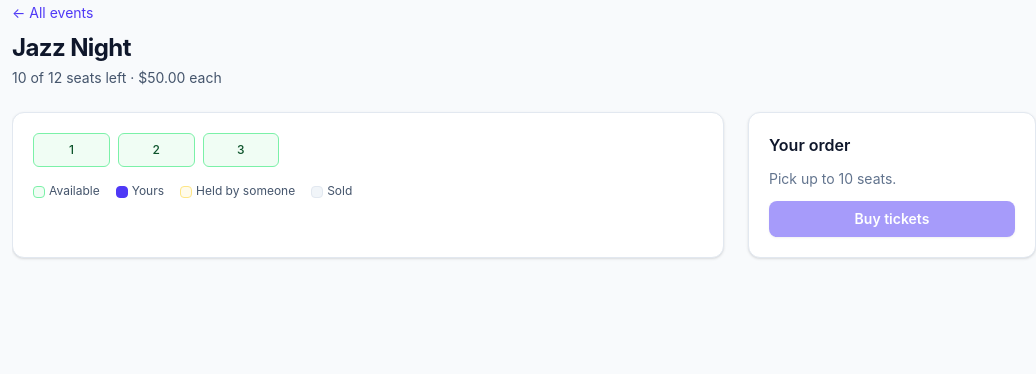
EventPage › tells the buyer a declined card cost them nothing
What coordinates should you click on to do the following:
click the button named "Seat 1, available"
I would click on:
 (71, 150)
Its box is [33, 133, 110, 167].
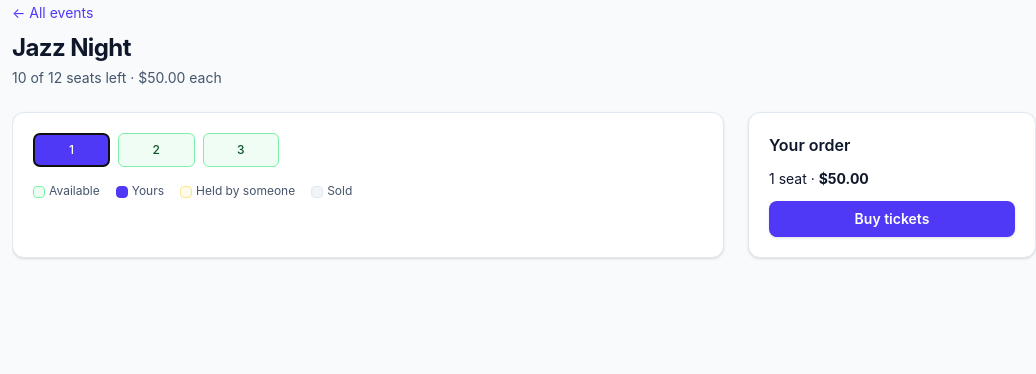
What coordinates should you click on to do the following:
click the button "Buy tickets"
I would click on:
 (892, 219)
Its box is [769, 201, 1015, 237].
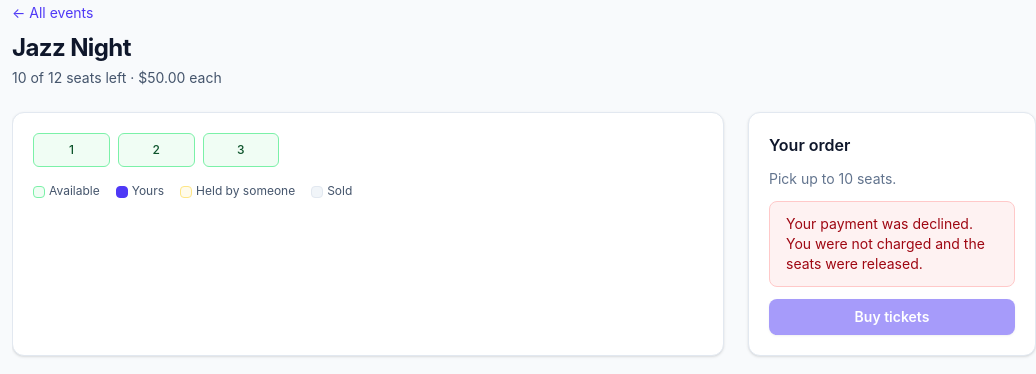
Expected: the message shows "not charged", [786, 215, 985, 272]
